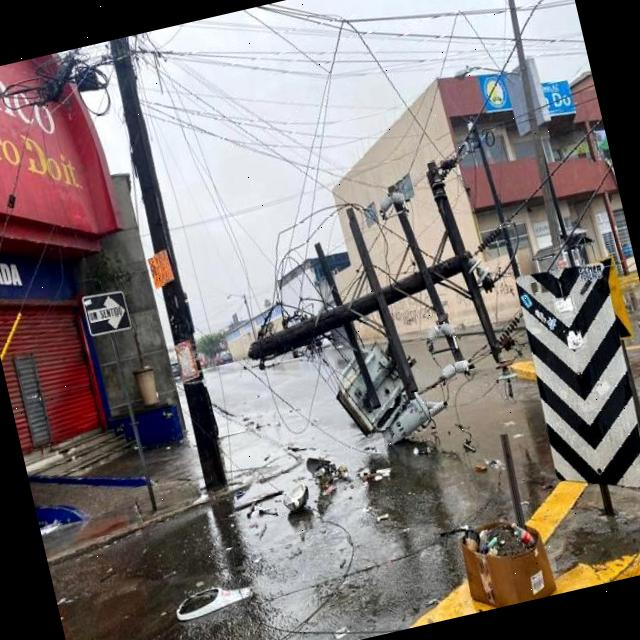Broken Pole: (243, 152, 524, 445)
